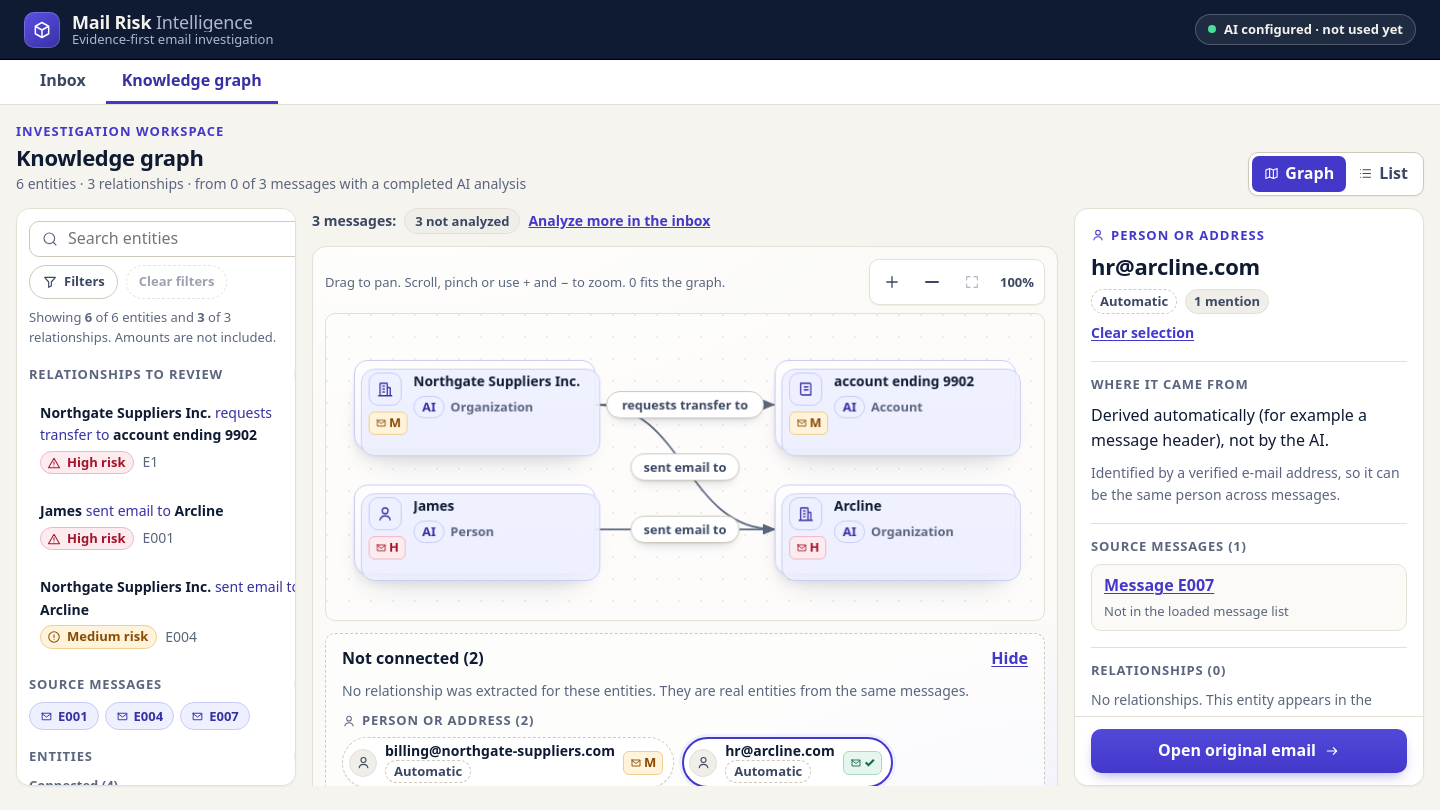
Test: filters, search and URL persistence › keeps a selection that stays visible and explains one that is hidden, with a recovery action
The width and height of the screenshot is (1440, 810).
Check: the text "6 entities · 3 relationships" is shown, box [16, 174, 526, 193]
Check: the heading "hr@arcline.com" is shown, box [1091, 252, 1260, 282]
Click the button "Filters": (73, 282) [29, 265, 118, 299]
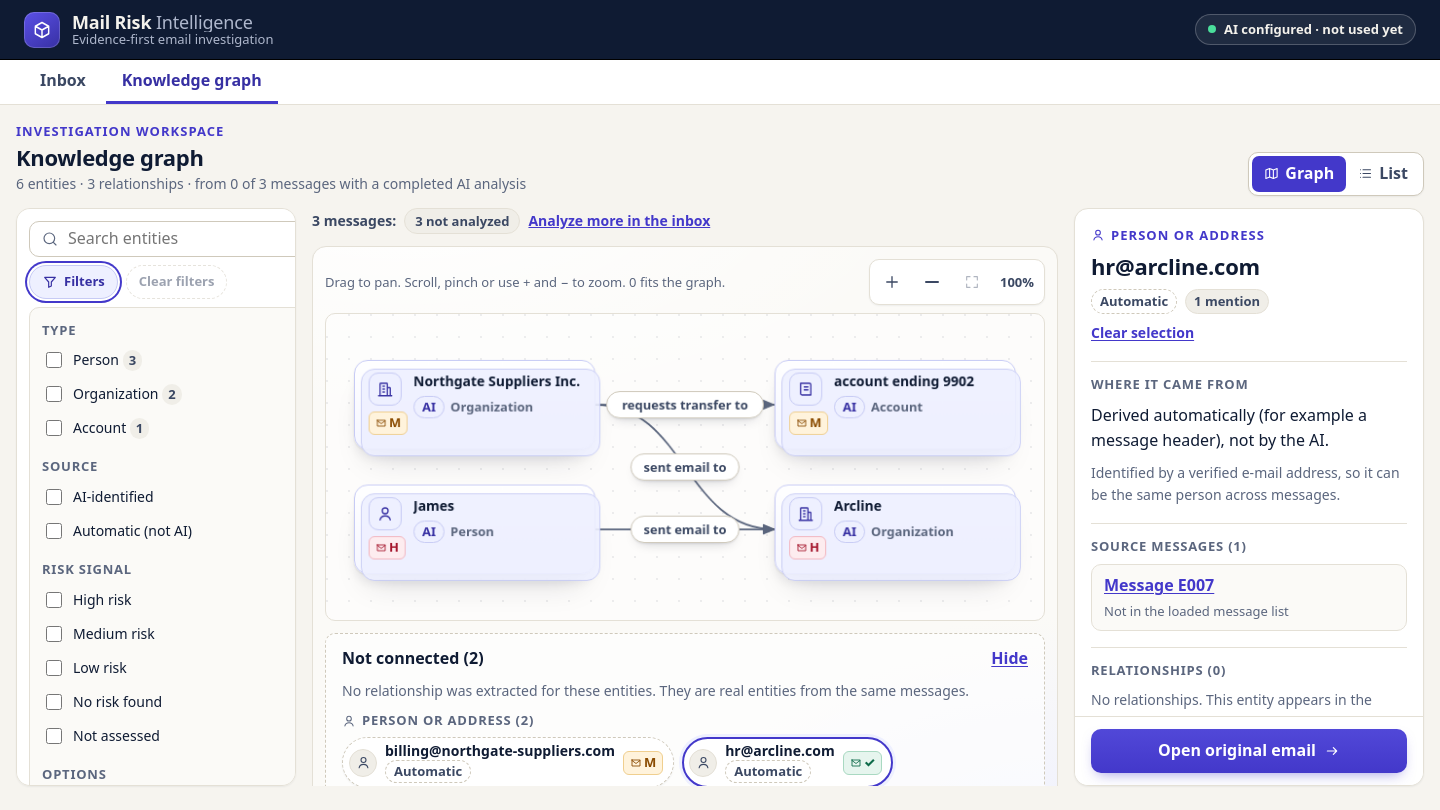
Click the checkbox labelled "AI-identified": (54, 497) [46, 489, 62, 505]
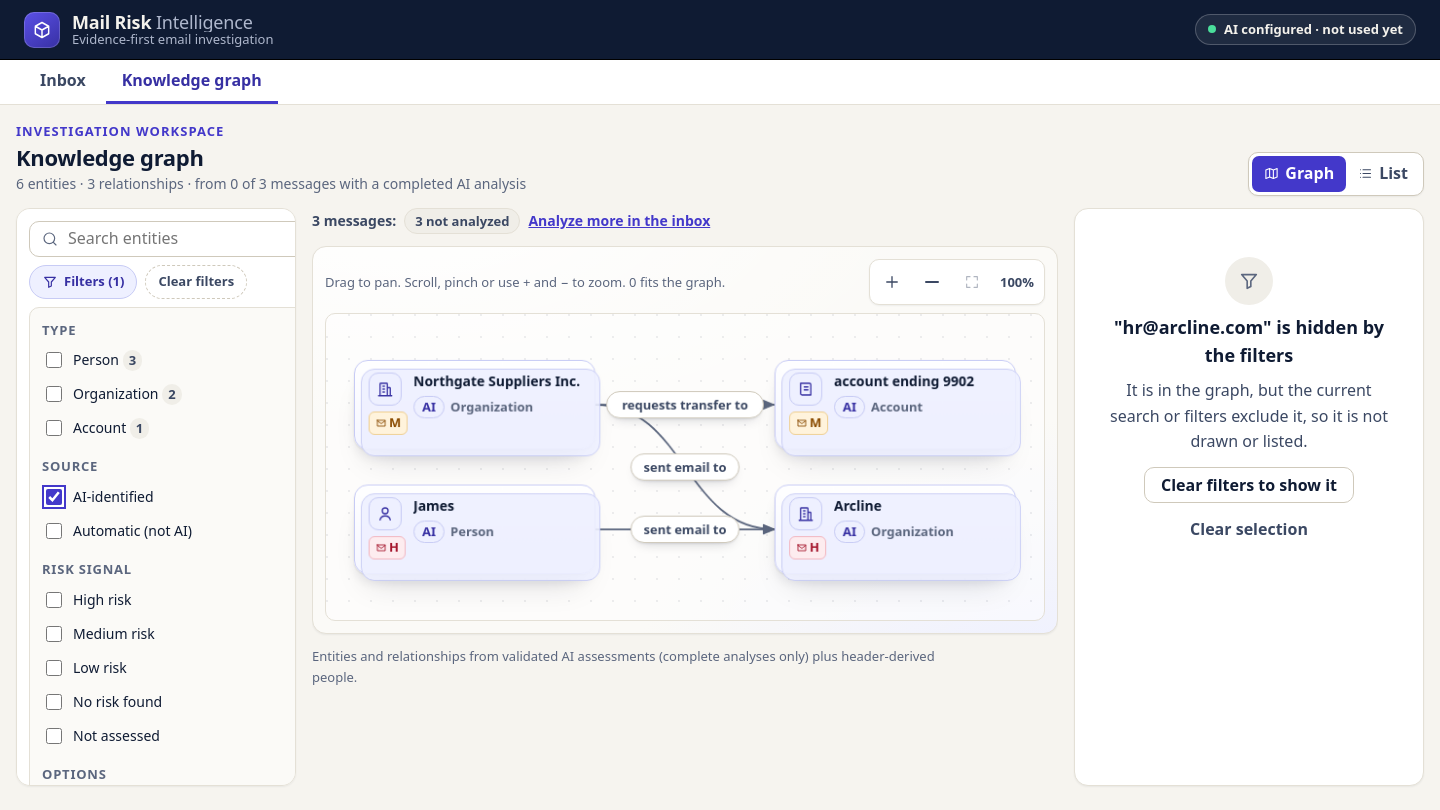
Check: the text "\"hr@arcline.com\" is hidden by the filters" is shown, box [1107, 313, 1391, 370]
Click the button "Clear filters to show it": (1249, 485) [1144, 467, 1354, 503]
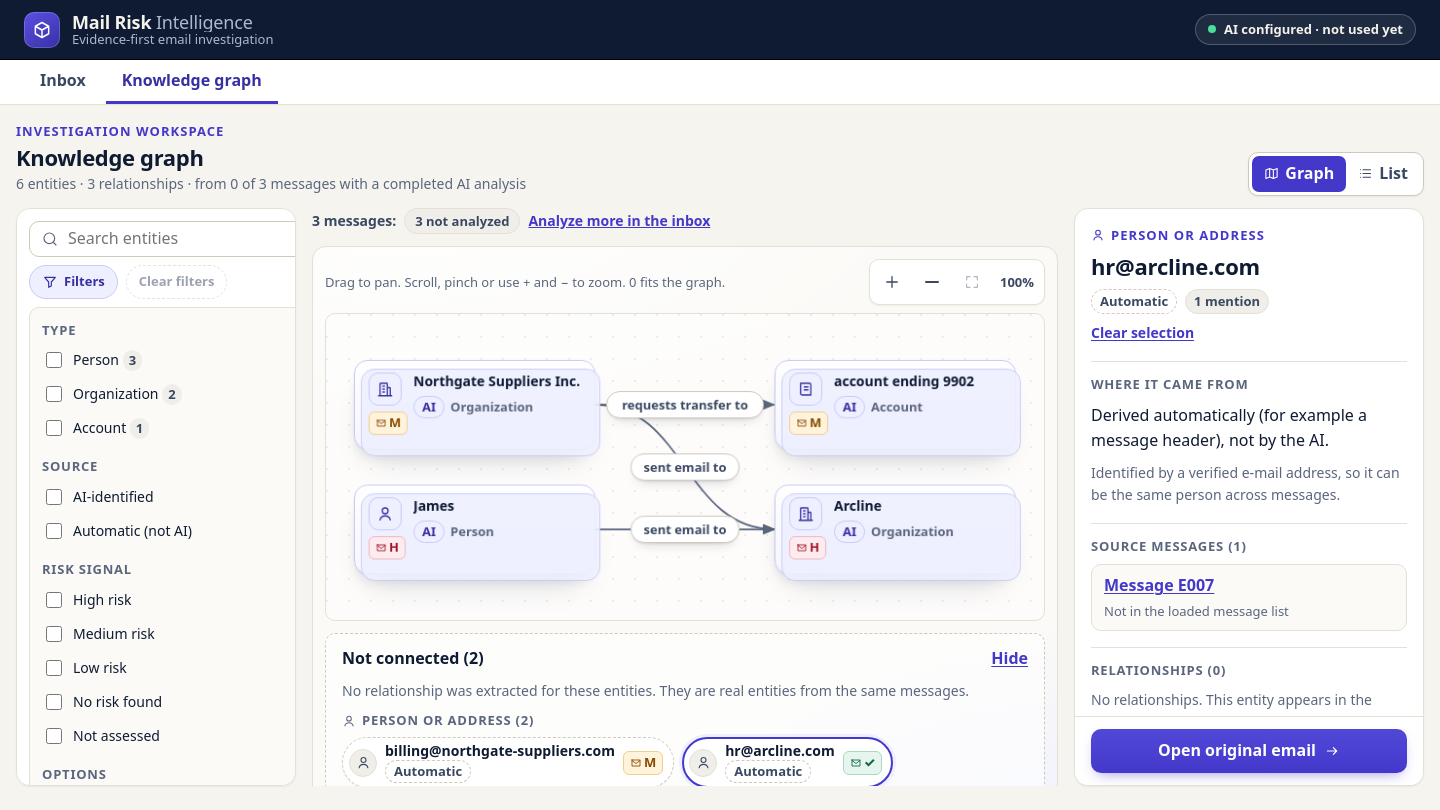
Check: the heading "hr@arcline.com" is shown, box [1091, 252, 1260, 282]
